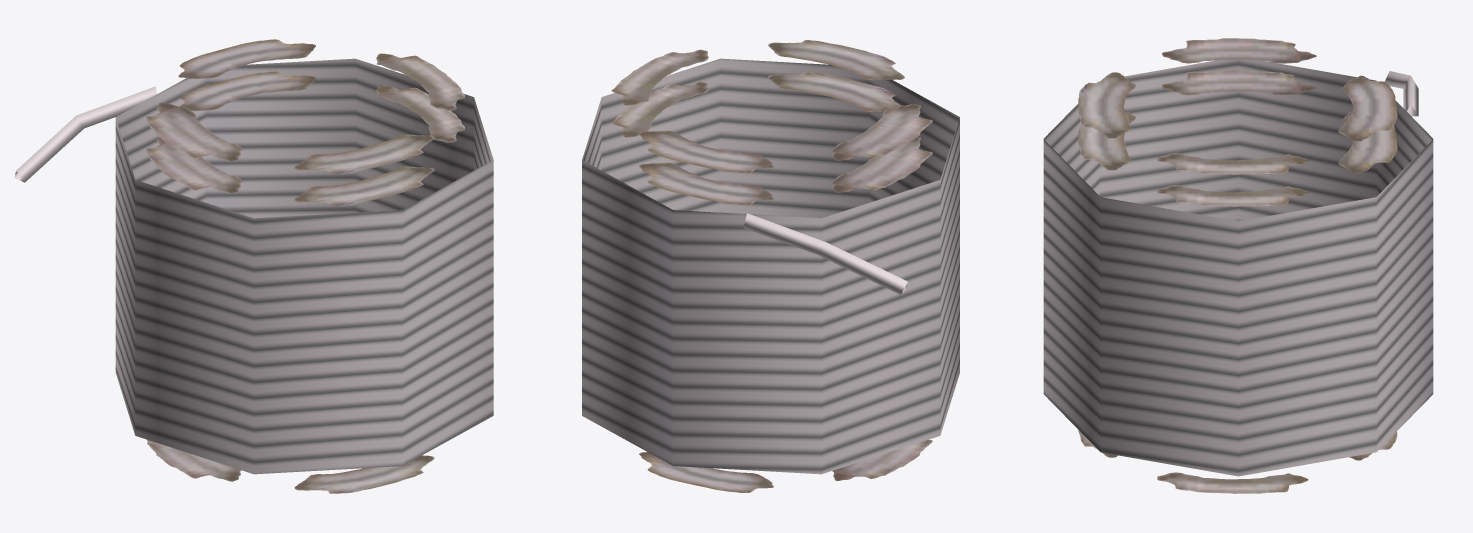
File: eqp_wire_spool_s01_l1.fbx
3 views of the same model, side by side, from view 1: azimuth 30°, elevation 25°; view 2: azimuth 150°, elevation 25°; view 3: azimuth 270°, elevation 25° (orthographic).
Visible parts, largest first — view 1: mesh_node; view 2: mesh_node; view 3: mesh_node.
Part boxes in pixels (bbox=[...]): mesh_node: bbox=[14, 39, 493, 493]; mesh_node: bbox=[582, 40, 959, 492]; mesh_node: bbox=[1043, 38, 1433, 493].
Size of the model in its own units: 0.2642 by 0.2 by 0.25.
